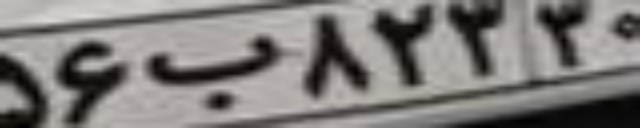0: (607, 12, 638, 40)
2: (371, 3, 432, 86)
3: (443, 1, 508, 77), (537, 0, 592, 68)
5: (0, 51, 48, 127)
6: (57, 37, 130, 123)
8: (301, 14, 368, 95)
be: (146, 33, 279, 109)
